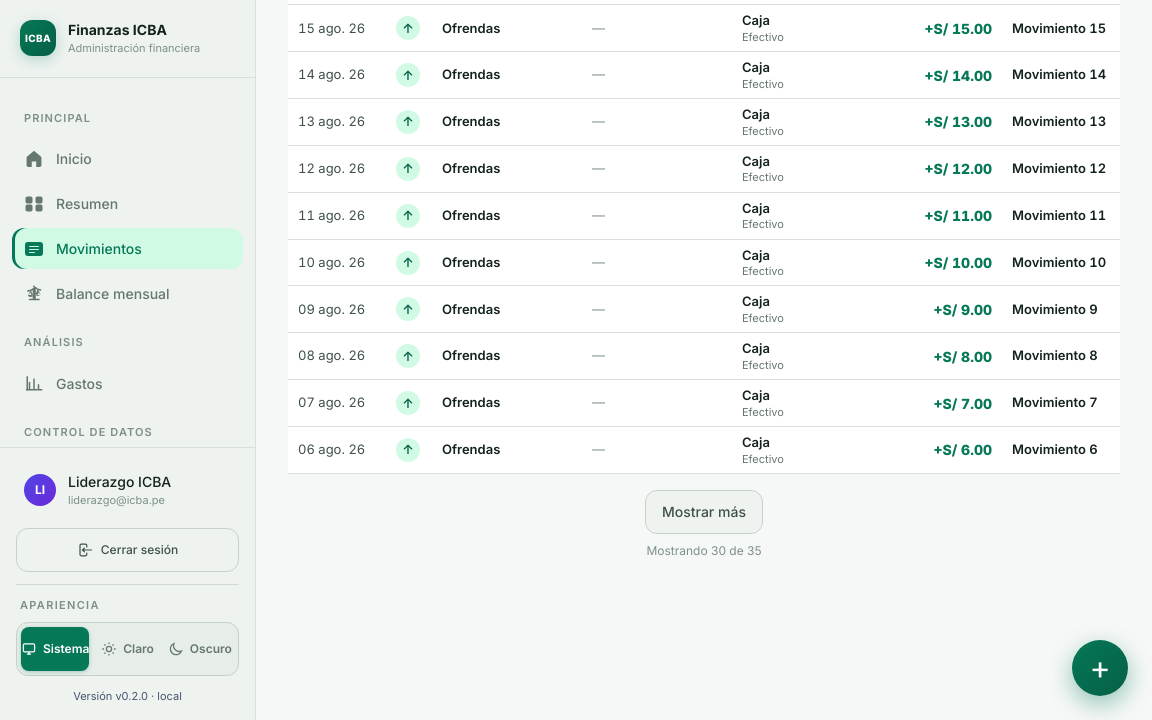
Test: explorador de movimientos › carga treinta resultados y permite mostrar el siguiente bloque
This screenshot has width=1152, height=720.
(page scrolled)
Expected: the text "Mostrando 30 de 35" is shown, [646, 542, 762, 560]
Click the button "Mostrar más".
click(704, 512)  # box [645, 490, 763, 534]
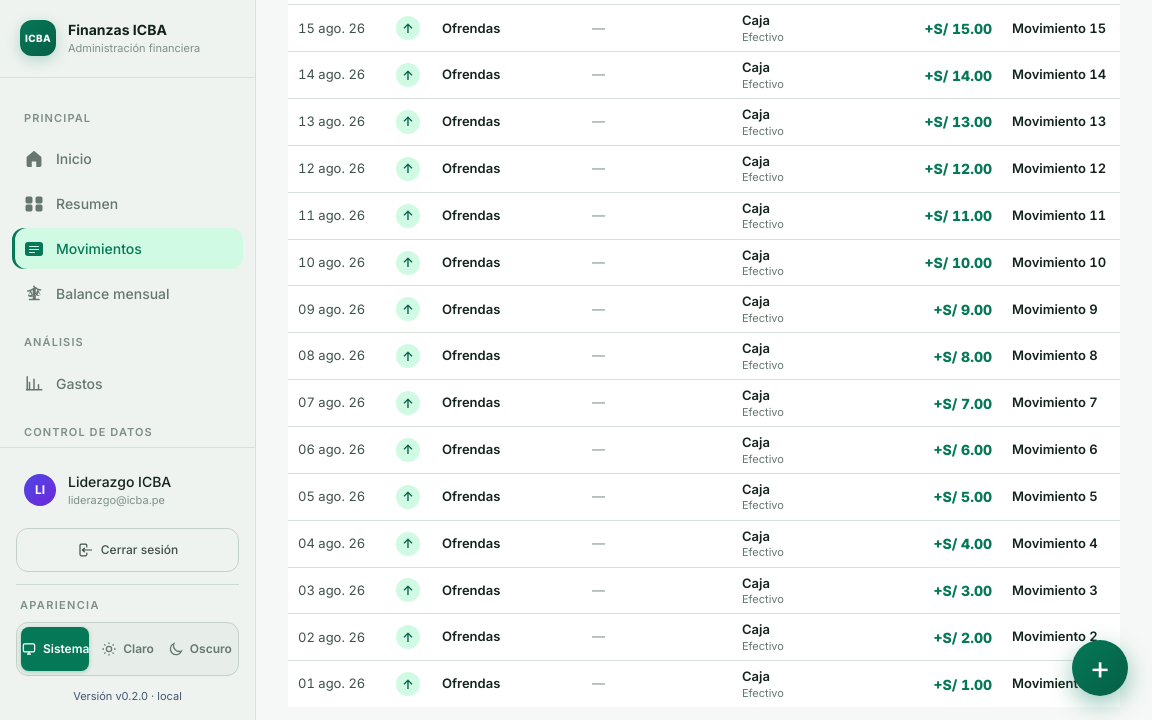
Now the button "Mostrar más" is gone
